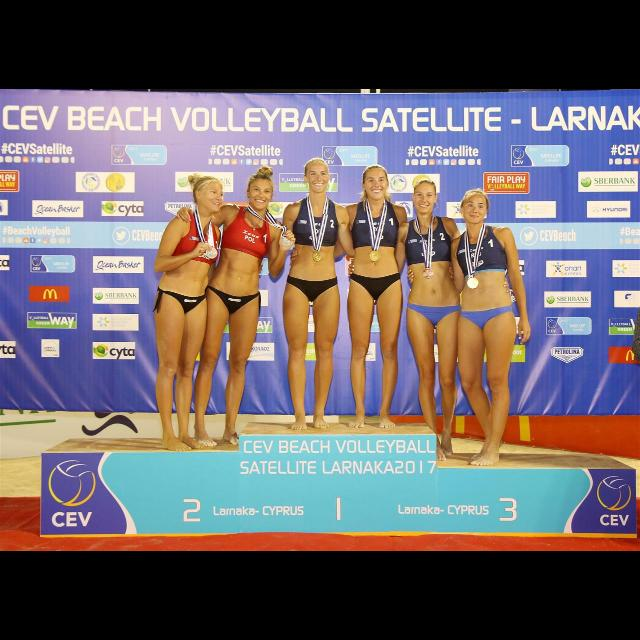head: (194, 174, 226, 213), (459, 190, 489, 226), (361, 164, 389, 202), (246, 174, 274, 210), (304, 158, 330, 194), (412, 180, 438, 216)
person: (348, 178, 512, 466), (289, 162, 459, 430), (404, 188, 532, 466), (177, 165, 297, 449), (278, 157, 386, 431), (154, 172, 226, 456)
